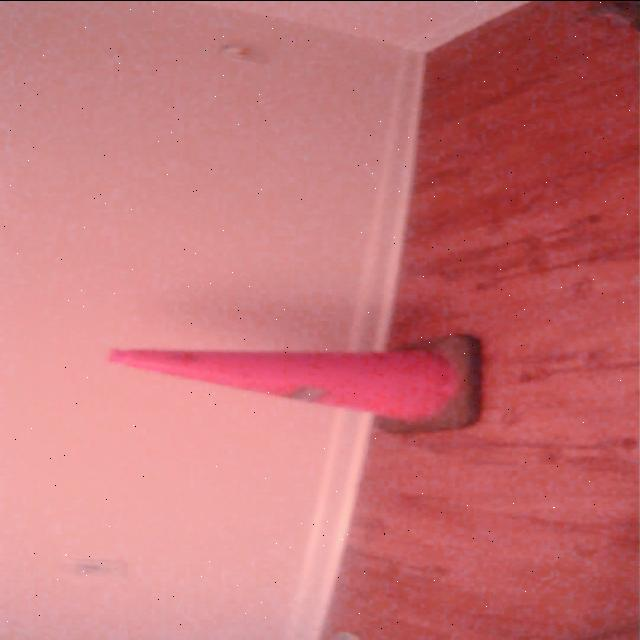traffic cone: (102, 328, 488, 438)
